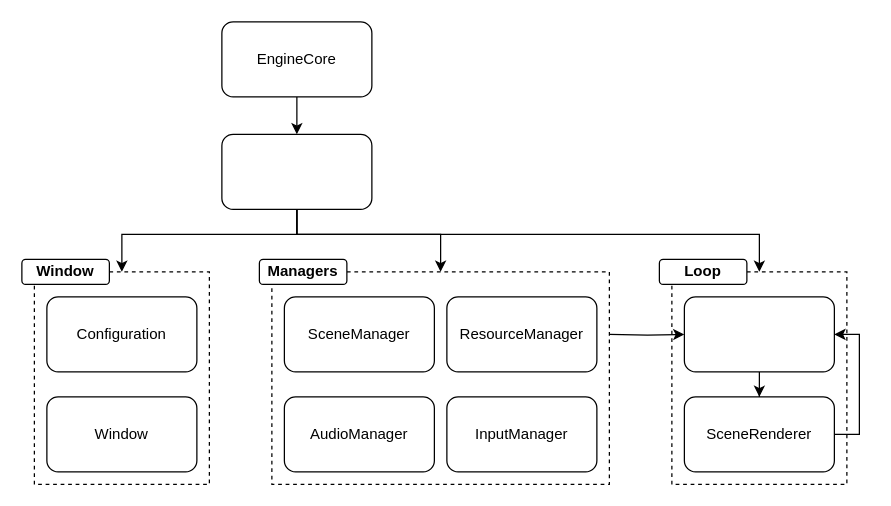
The diagram is 891 pixels wide and 506 high, and some of its shapes have lost their labels. The box of each missing label's shape, as (x1, y1, x2, y2) in pixels:
Game: (221, 133, 372, 209)
LuaScriptExecutioner: (683, 296, 834, 372)
